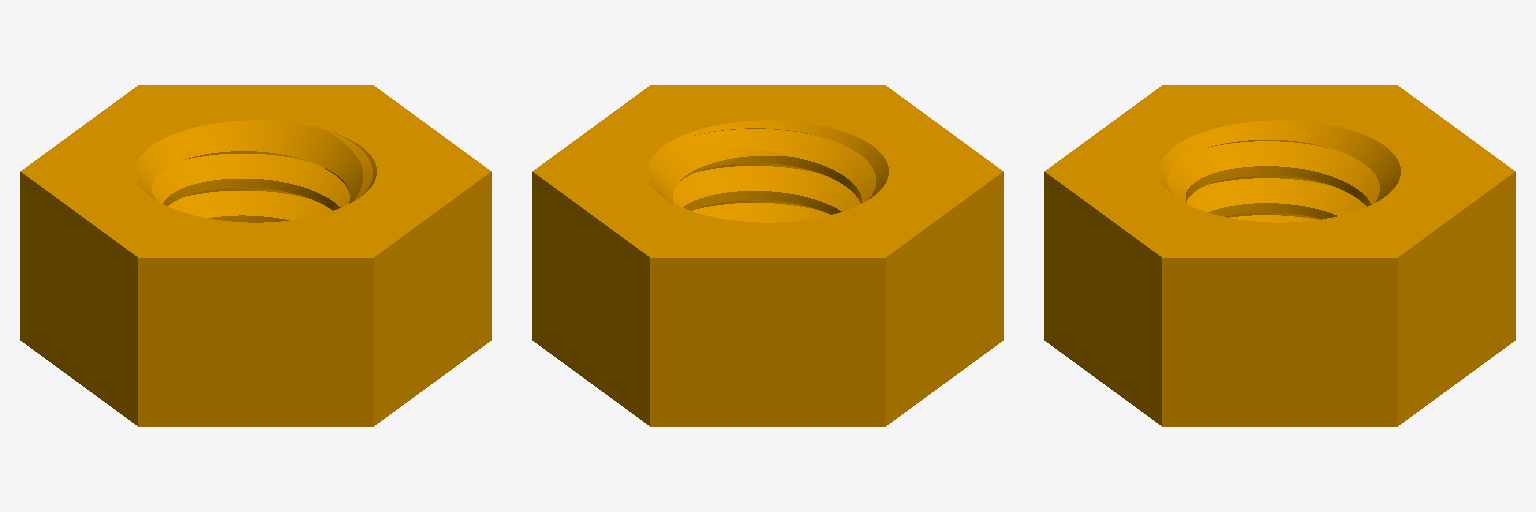
The robot description file, URDF, robot "nut_m4_tight_SI":
<?xml version="1.0"?>
<robot name="nut_m4_tight_SI">
  <link name="nut_m4_tight_SI">
    <visual>
      <origin xyz="0.0 0.0 0.0"/>
      <geometry>
        <mesh filename="nut_m4_tight.obj" scale="1 1 1"/>
      </geometry>
    </visual>
    <collision>
      <origin xyz="0.0 0.0 0.0"/>
      <geometry>
        <mesh filename="nut_m4_tight.obj" scale="1 1 1"/>
      </geometry>
      <sdf resolution="256"/>
    </collision>
    <inertial>
      <mass value="0.0008"/>
      <origin xyz="0 0 0.0056" rpy="0 0 0"/>
      <inertia ixx="4.1e-9" ixy="0.0" ixz="0.0" iyy="4.1e-9" iyz="0.0" izz="6.86e-9"/>
    </inertial>
  </link>
</robot>

--- Render facts (derived) ---
The picture shows the robot from 3 angles, left to right: view 1: azimuth 30°, elevation 25°; view 2: azimuth 150°, elevation 25°; view 3: azimuth 270°, elevation 25°; orthographic projection.
Robot: nut_m4_tight_SI — 1 links, 0 joints (none); root link nut_m4_tight_SI; default pose: all joints at 0.
Visible links, largest first — view 1: nut_m4_tight_SI; view 2: nut_m4_tight_SI; view 3: nut_m4_tight_SI.
Boxes of the visible links, x1,y1,x2,y2 form: nut_m4_tight_SI: (20,85,491,426); nut_m4_tight_SI: (532,85,1003,426); nut_m4_tight_SI: (1044,85,1515,426).
Bounding box of the posed robot: 0.007 × 0.0081 × 0.0032 m (x, y, z).
Meshes: 1 distinct files referenced, 1 mesh visuals loaded (1 OBJ).